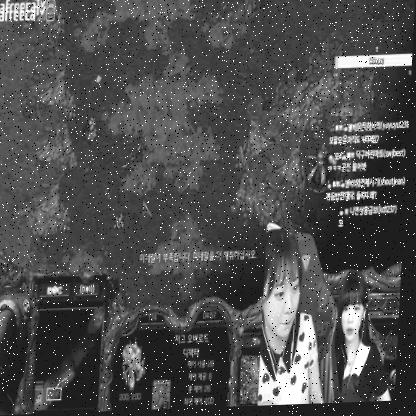streamer: (262, 222, 338, 408), (334, 270, 404, 406)
